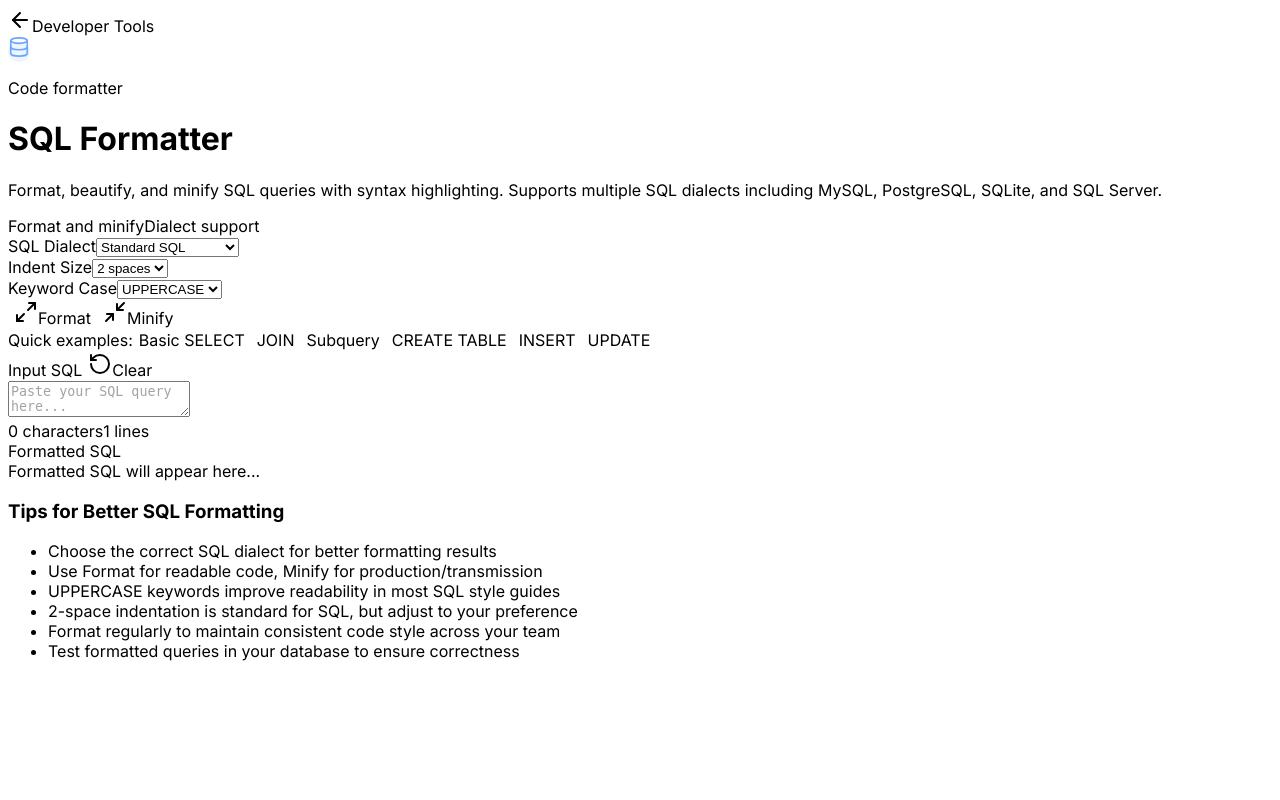
Test case: SQLFormatterPage › Format SQL › displays error message for empty input
Click the button "Format".
click(52, 314)  # box [8,299,97,329]
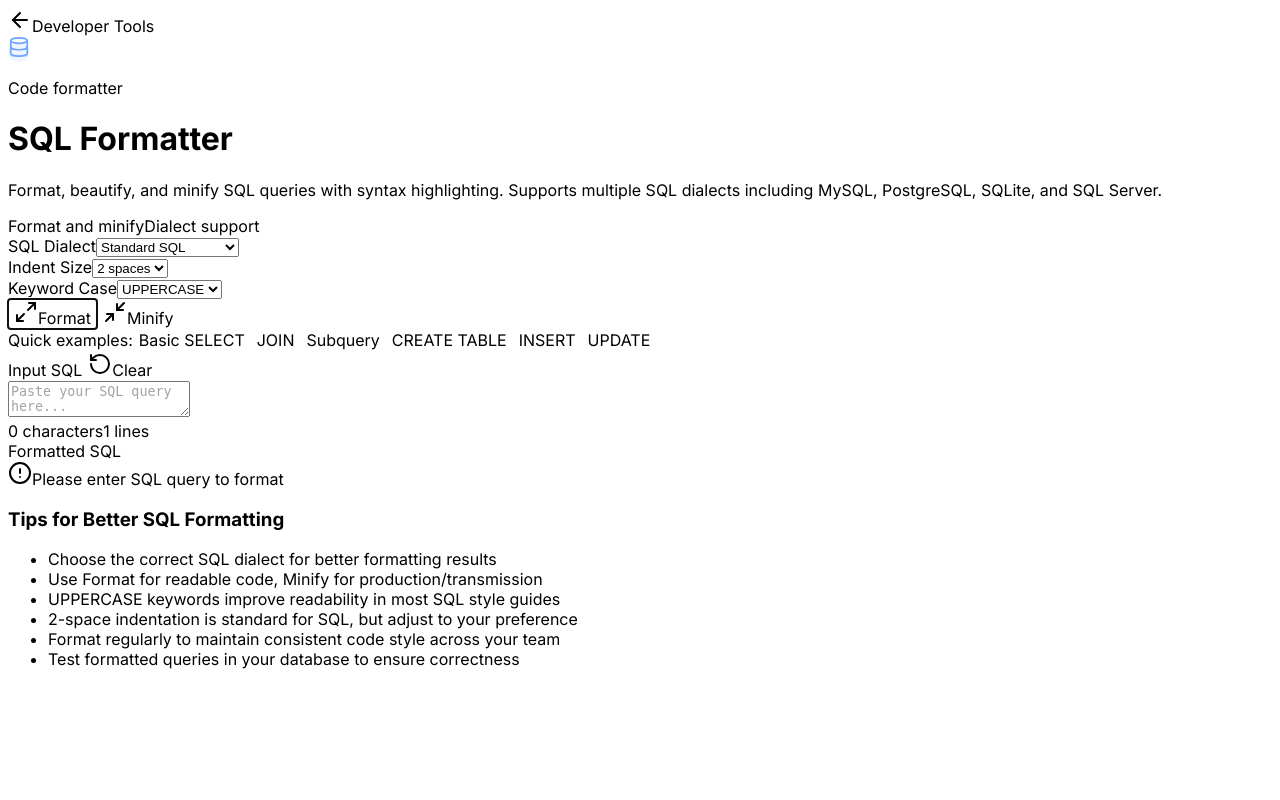
Check: the text "Please enter SQL query to format" is shown, box [32,469,284,489]
